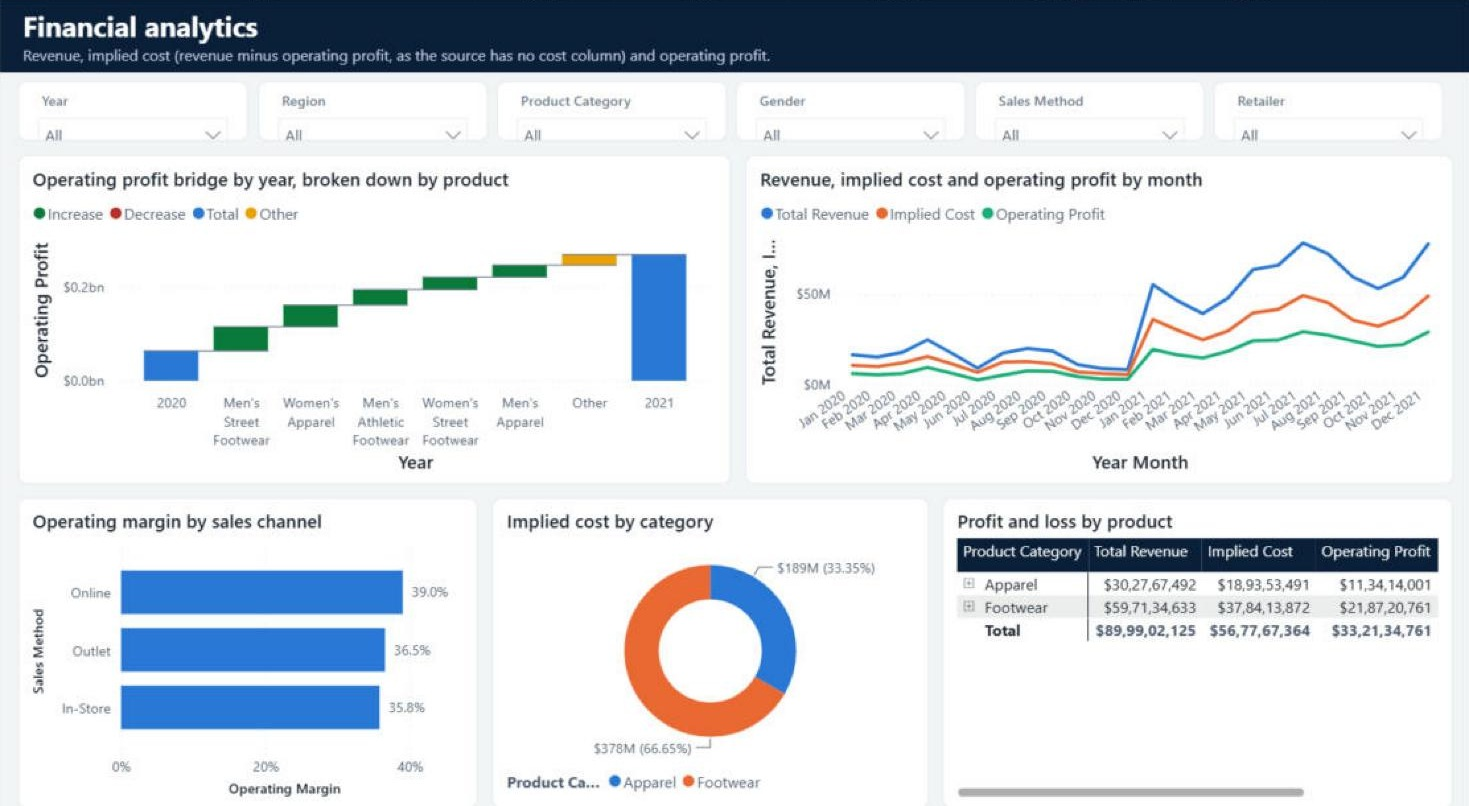

Layout of this report page (visuals, bound fields, positions):
{"tool":"powerbi","page":{"name":"Financial Analytics","canvas":[1280,720],"ordinal":5},"visuals":[{"type":"textbox","box":[0,0,1280,64],"z":1000},{"type":"slicer","fields":{"Values":["Calendar.Year"]},"box":[16,72,200,52],"z":2000},{"type":"slicer","fields":{"Values":["Geography.Region"]},"box":[224,72,200,52],"z":3000},{"type":"slicer","fields":{"Values":["Product.Product Category"]},"box":[432,72,200,52],"z":4000},{"type":"slicer","fields":{"Values":["Product.Gender"]},"box":[640,72,200,52],"z":5000},{"type":"slicer","fields":{"Values":["Sales Method.Sales Method"]},"box":[848,72,200,52],"z":6000},{"type":"slicer","fields":{"Values":["Retailer.Retailer"]},"box":[1056,72,200,52],"z":7000},{"type":"waterfallChart","title":"Operating profit bridge by year, broken down by product","fields":{"Breakdown":["Product.Product"],"Category":["Calendar.Year"],"Y":["_Measures.Operating Profit"]},"box":[16,136,620,286],"z":8000},{"type":"lineChart","title":"Revenue, implied cost and operating profit by month","fields":{"Category":["Calendar.Year Month"],"Y":["_Measures.Total Revenue","_Measures.Implied Cost","_Measures.Operating Profit"]},"box":[648,136,616,286],"z":9000},{"type":"clusteredBarChart","title":"Operating margin by sales channel","fields":{"Category":["Sales Method.Sales Method"],"Y":["_Measures.Operating Margin"]},"box":[16,434,400,270],"z":10000},{"type":"donutChart","title":"Implied cost by category","fields":{"Category":["Product.Product Category"],"Y":["_Measures.Implied Cost"]},"box":[428,434,380,270],"z":11000},{"type":"pivotTable","title":"Profit and loss by product","fields":{"Rows":["Product.Product Category","Product.Product"],"Values":["_Measures.Total Revenue","_Measures.Implied Cost","_Measures.Operating Profit","_Measures.Operating Margin"]},"box":[820,434,444,270],"z":12000}]}

Visuals, with their boxes in screenshot pixels (x1, y1, x2, y2), scaled from the page's 1280x720 canvas onto the 1469x806 screenshot:
textbox: (x1=0, y1=0, x2=1468, y2=72)
slicer - Calendar.Year: (x1=18, y1=81, x2=248, y2=139)
slicer - Geography.Region: (x1=257, y1=81, x2=487, y2=139)
slicer - Product.Product Category: (x1=496, y1=81, x2=725, y2=139)
slicer - Product.Gender: (x1=734, y1=81, x2=964, y2=139)
slicer - Sales Method.Sales Method: (x1=973, y1=81, x2=1203, y2=139)
slicer - Retailer.Retailer: (x1=1212, y1=81, x2=1441, y2=139)
"Operating profit bridge by year, broken down by product" waterfallChart: (x1=18, y1=152, x2=730, y2=472)
"Revenue, implied cost and operating profit by month" lineChart: (x1=744, y1=152, x2=1451, y2=472)
"Operating margin by sales channel" clusteredBarChart: (x1=18, y1=486, x2=477, y2=788)
"Implied cost by category" donutChart: (x1=491, y1=486, x2=927, y2=788)
"Profit and loss by product" pivotTable: (x1=941, y1=486, x2=1451, y2=788)
